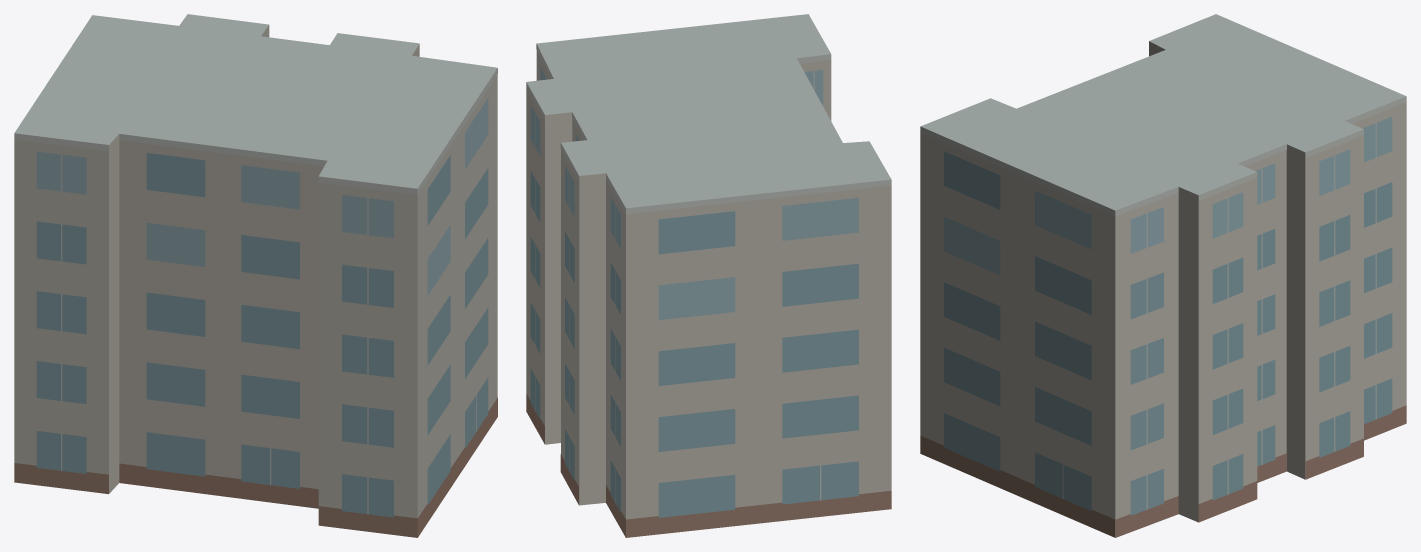
Rendered from survey-upis-32534958.glb.
The picture shows the model from 3 angles, left to right: view 1: azimuth 30°, elevation 25°; view 2: azimuth 150°, elevation 25°; view 3: azimuth 270°, elevation 25°; orthographic projection. The views are drawn at different scales.
Parts seen in each view (by area): view 1: survey-upis-32534958.tmp; view 2: survey-upis-32534958.tmp; view 3: survey-upis-32534958.tmp.
Part boxes in pixels (box(x1,y1,x2,y2)): survey-upis-32534958.tmp: box(14, 14, 497, 537); survey-upis-32534958.tmp: box(526, 14, 891, 537); survey-upis-32534958.tmp: box(920, 14, 1406, 537).
Size of the model in its own units: 17.66 by 13.7 by 18.45.
